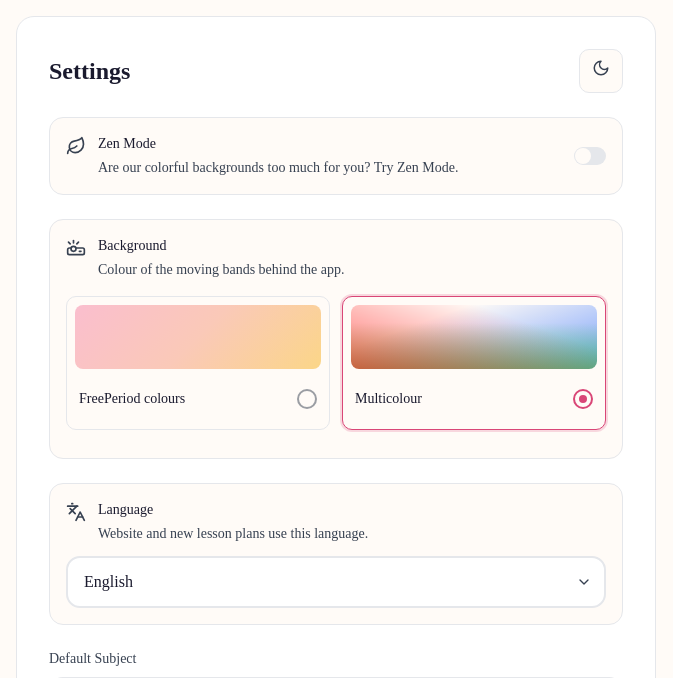
Test: navbar LanguagePicker locale persist › surfaces a Settings network TypeError with the save-error UI and writes once
What coordinates should you click on to do the following:
click the button with aria-label "language"
I would click on:
 (108, 582)
Its box is [66,556,606,608].
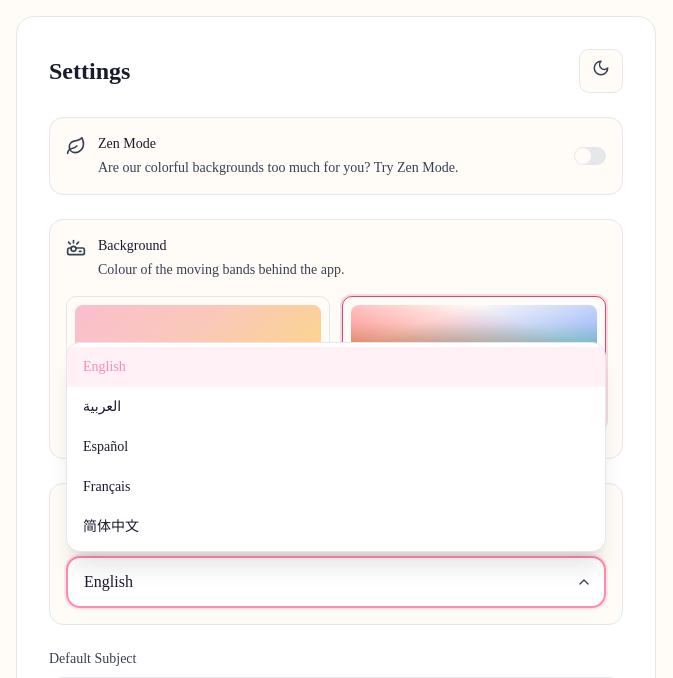
What coordinates should you click on to do the following:
click the option "Español"
I would click on:
 (106, 446)
Its box is [83,439,128,454].
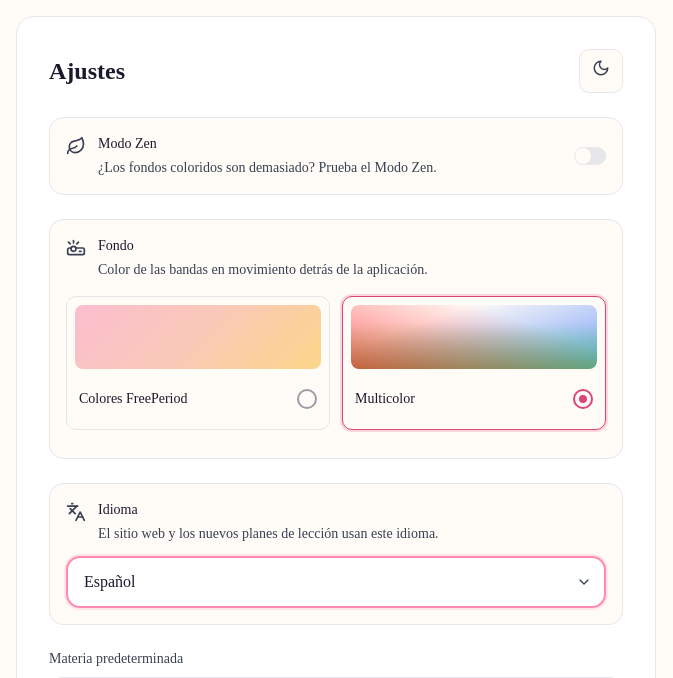
Now the button named "language" reads "Español", box [66,556,606,608]
